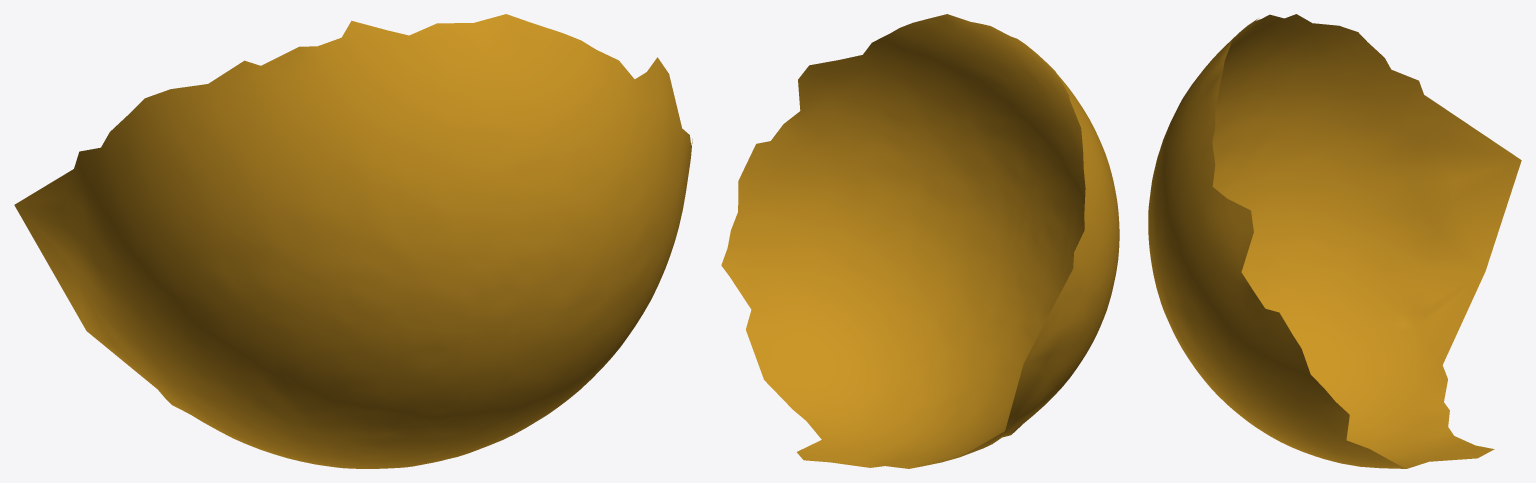
The model's file is CameraFocus_P34.000001.obj.
The picture shows the model from 3 angles, left to right: view 1: azimuth 30°, elevation 25°; view 2: azimuth 150°, elevation 25°; view 3: azimuth 270°, elevation 25°; orthographic projection. The views are drawn at different scales.
Visible parts, largest first — view 1: CameraFocus_P34.000001; view 2: CameraFocus_P34.000001; view 3: CameraFocus_P34.000001.
Boxes of the visible parts, <box> form: CameraFocus_P34.000001: <box>14,14,692,468</box>; CameraFocus_P34.000001: <box>721,14,1119,468</box>; CameraFocus_P34.000001: <box>1148,14,1521,468</box>.
Size of the model in its own units: 155 by 140 by 121.
